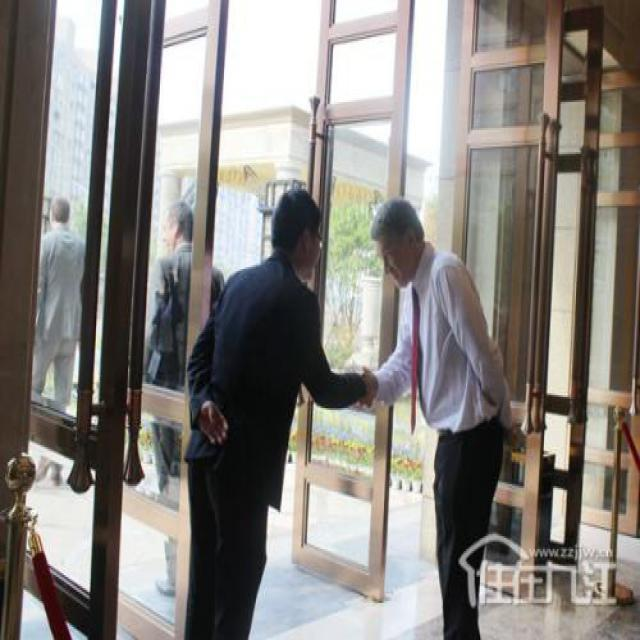head: (270, 185, 324, 287), (371, 196, 423, 289), (157, 192, 198, 272), (45, 187, 73, 235)
person: (358, 189, 521, 640), (208, 180, 359, 616), (136, 184, 242, 489), (33, 187, 101, 466)
